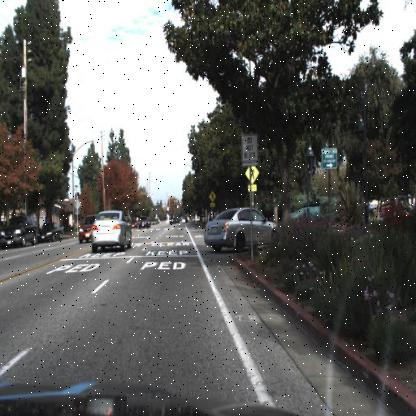car: (202, 204, 277, 253), (90, 213, 134, 253), (1, 212, 38, 250), (72, 210, 103, 246), (37, 222, 65, 244), (137, 209, 152, 228)
